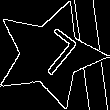L_SW: (21, 25, 79, 84)
